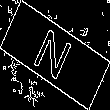N_SW: (31, 23, 79, 87)
